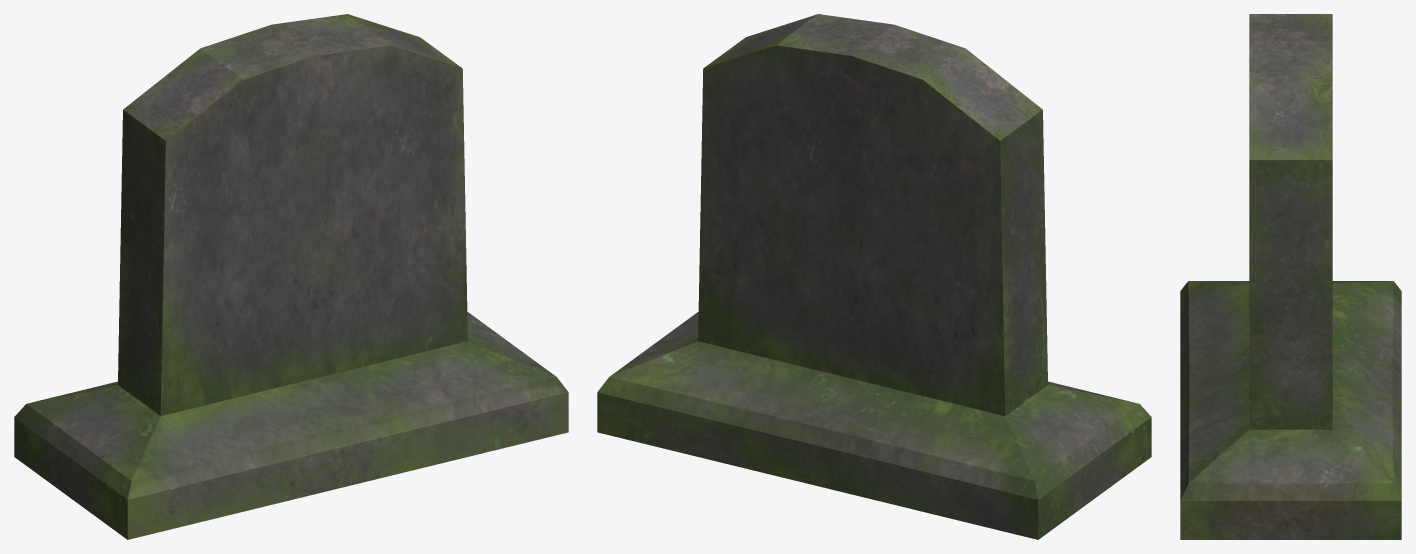
Rendered from tombs_moss_03.fbx.
The picture shows the model from 3 angles, left to right: view 1: azimuth 30°, elevation 25°; view 2: azimuth 150°, elevation 25°; view 3: azimuth 270°, elevation 25°; orthographic projection. The views are drawn at different scales.
Visible parts, largest first — view 1: tombs_moss_03; view 2: tombs_moss_03; view 3: tombs_moss_03.
Part boxes in pixels (bbox=[...]): tombs_moss_03: bbox=[14, 14, 568, 539]; tombs_moss_03: bbox=[597, 14, 1151, 539]; tombs_moss_03: bbox=[1180, 14, 1401, 539].
Bounding box in the file's own units: 0.1591 × 0.1392 × 0.0709.
Materials: 1 (1 with a texture image).
